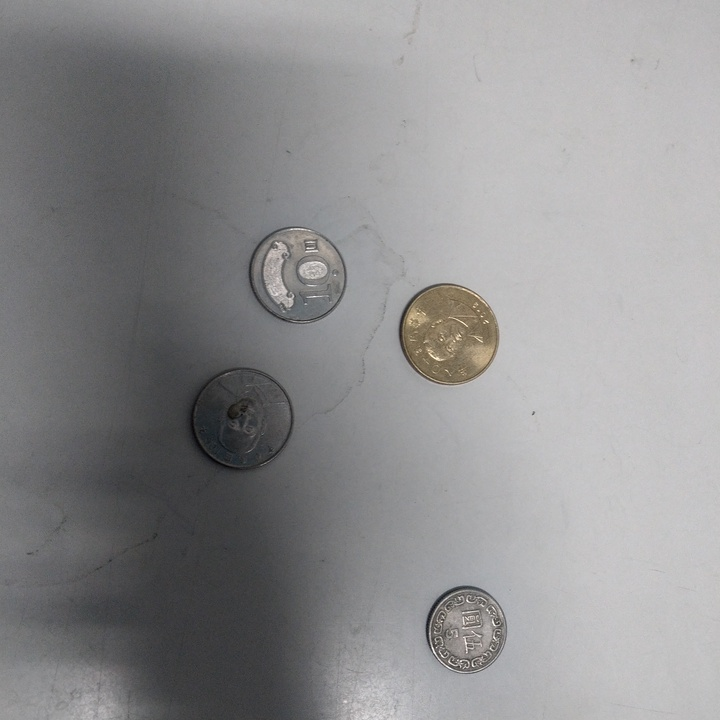10 dollar: (187, 367, 297, 473), (250, 228, 349, 327)
5 dollar: (425, 585, 511, 675)
50 dollar: (397, 286, 499, 389)
